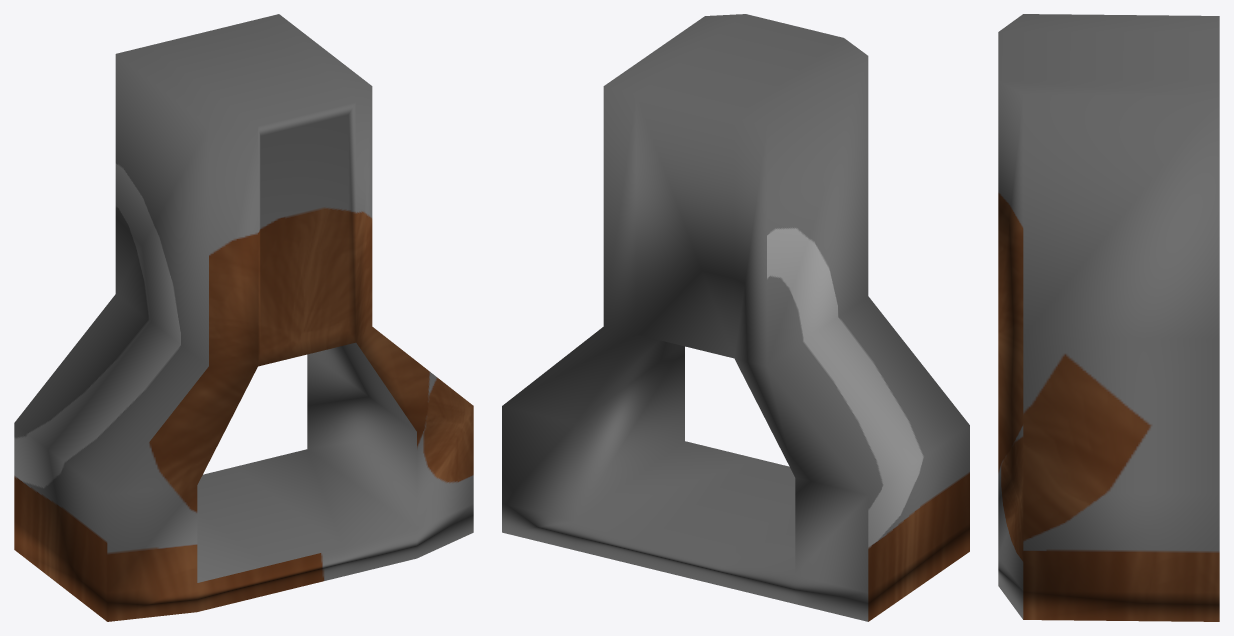
The model's file is Lenha.fbx.
The picture shows the model from 3 angles, left to right: view 1: azimuth 30°, elevation 25°; view 2: azimuth 150°, elevation 25°; view 3: azimuth 270°, elevation 25°; orthographic projection.
Visible parts, largest first — view 1: pCube8; view 2: pCube8; view 3: pCube8.
Boxes of the visible parts, left/top/right/bottom form: pCube8: left=14, top=14, right=473, bottom=621; pCube8: left=502, top=14, right=969, bottom=621; pCube8: left=998, top=14, right=1219, bottom=621.
Size of the model in its own units: 42.99 by 52.24 by 22.05.
